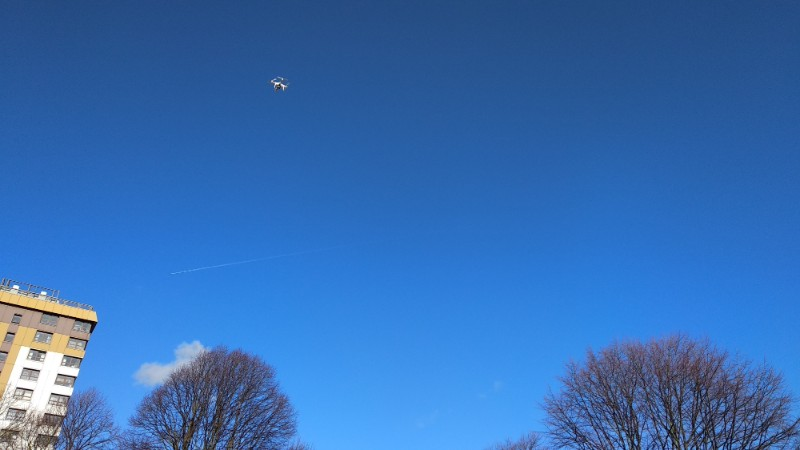drone: (268, 74, 291, 92)
